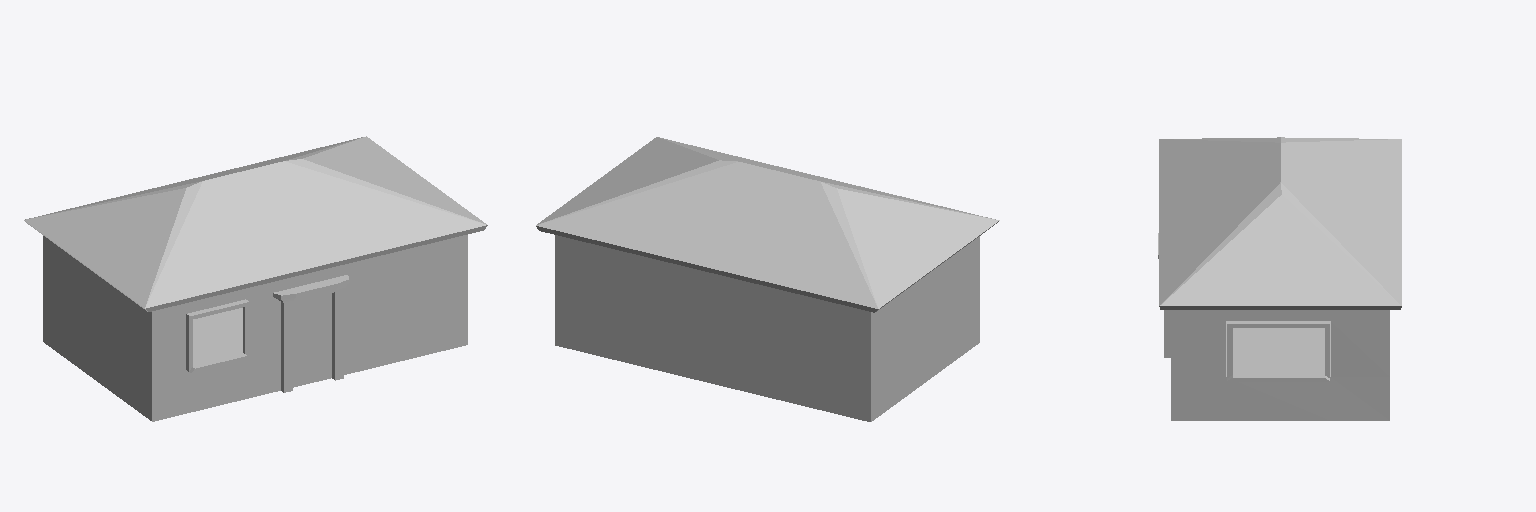
The model's file is houseModel_4.obj.
3 renders of one model, left to right at view 1: azimuth 30°, elevation 25°; view 2: azimuth 150°, elevation 25°; view 3: azimuth 270°, elevation 25°, orthographic.
Visible parts, largest first — view 1: doorFrame1 polySurface3 polySurface1, polySurface9, polySurface2 doorFrame1, doorFrame1 polySurface1 polySurface6 polySurface4; view 2: polySurface9, doorFrame1 polySurface3 polySurface1; view 3: doorFrame1 polySurface3 polySurface1, polySurface9, doorFrame1 polySurface1 polySurface4 polySurface10.
Part boxes in pixels (left/top/right/bottom): doorFrame1 polySurface3 polySurface1: left=24, top=136, right=487, bottom=311; polySurface9: left=43, top=235, right=467, bottom=421; polySurface2 doorFrame1: left=273, top=275, right=349, bottom=392; doorFrame1 polySurface1 polySurface6 polySurface4: left=186, top=299, right=249, bottom=373; polySurface9: left=555, top=235, right=979, bottom=421; doorFrame1 polySurface3 polySurface1: left=536, top=137, right=999, bottom=312; doorFrame1 polySurface3 polySurface1: left=1159, top=137, right=1401, bottom=309; polySurface9: left=1171, top=310, right=1389, bottom=420; doorFrame1 polySurface1 polySurface4 polySurface10: left=1227, top=321, right=1329, bottom=381.
Bounding box in the file's own units: 10.86 × 5.3 × 6.69.